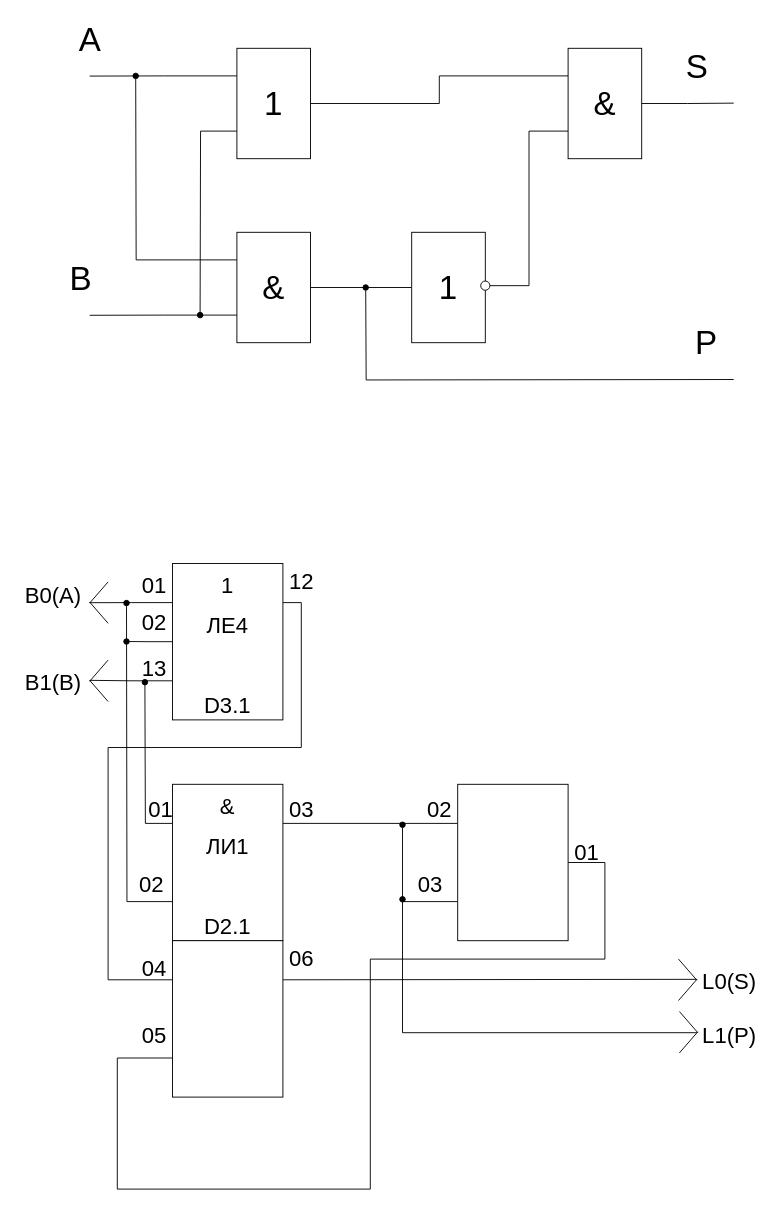
Image size: 776x1206. Some labels were removed from this diagram. The shapes that lost their labels are listed below. From the top down, each one's centre as x and y in pixels, then its label:
At pixel 512 862: "1 ЛE1 D1.1".
At pixel 227 1018: "& ЛИ1 D2.2".
